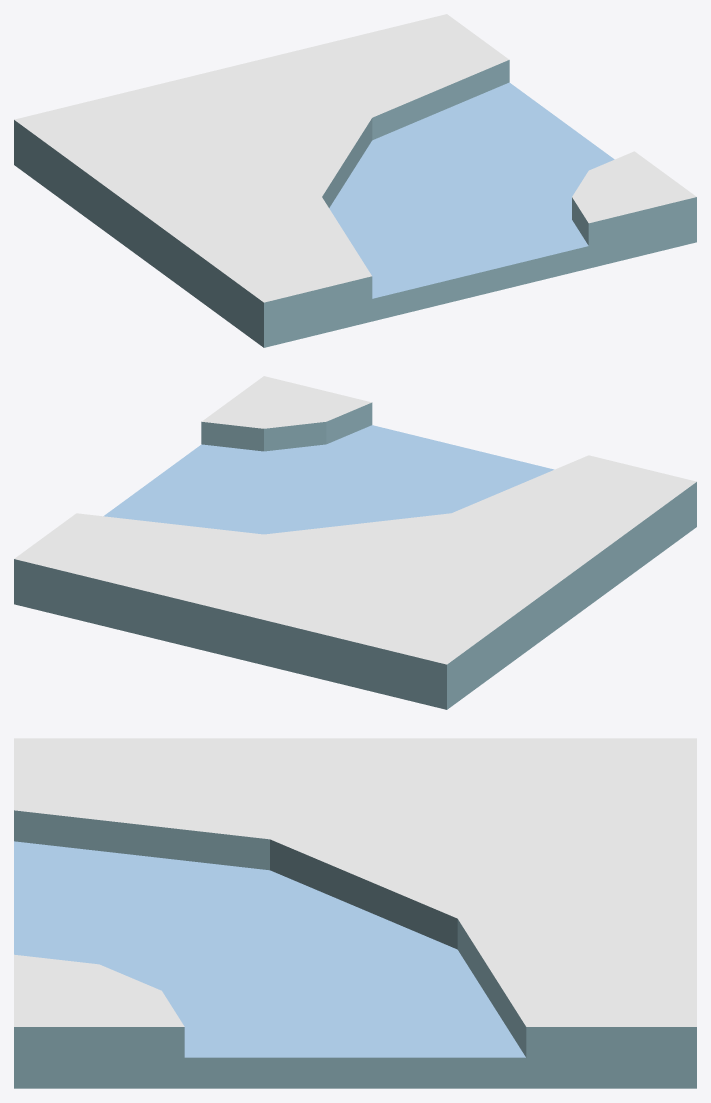
Rendered from Terrain_Modular_Tiles_Snow_Ice_River_Bend_01.fbx.
3 renders of one model, top to bottom at view 1: azimuth 30°, elevation 25°; view 2: azimuth 150°, elevation 25°; view 3: azimuth 270°, elevation 25°, orthographic. The views are drawn at different scales.
Parts seen in each view (by area): view 1: Terrain_Modular_Tiles_Snow_Ice_River_Bend_01; view 2: Terrain_Modular_Tiles_Snow_Ice_River_Bend_01; view 3: Terrain_Modular_Tiles_Snow_Ice_River_Bend_01.
Boxes of the visible parts, box(x1,y1,x2,y2) form: Terrain_Modular_Tiles_Snow_Ice_River_Bend_01: box(14, 14, 696, 347); Terrain_Modular_Tiles_Snow_Ice_River_Bend_01: box(14, 376, 696, 709); Terrain_Modular_Tiles_Snow_Ice_River_Bend_01: box(14, 738, 696, 1088).
Bounding box in the file's own units: 3000 × 300 × 3000.
